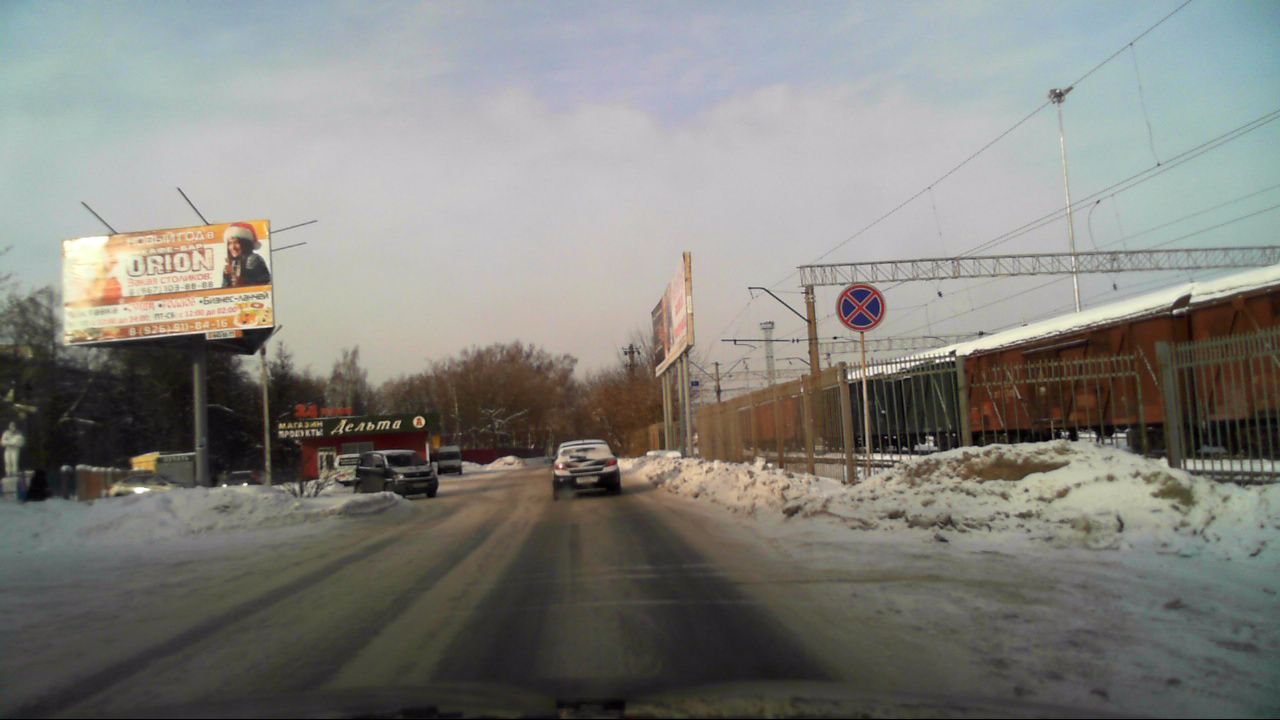No Parking: (836, 283, 886, 331)
